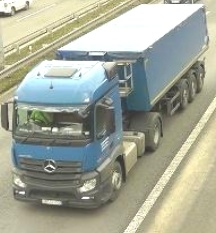van: (0, 0, 33, 17)
